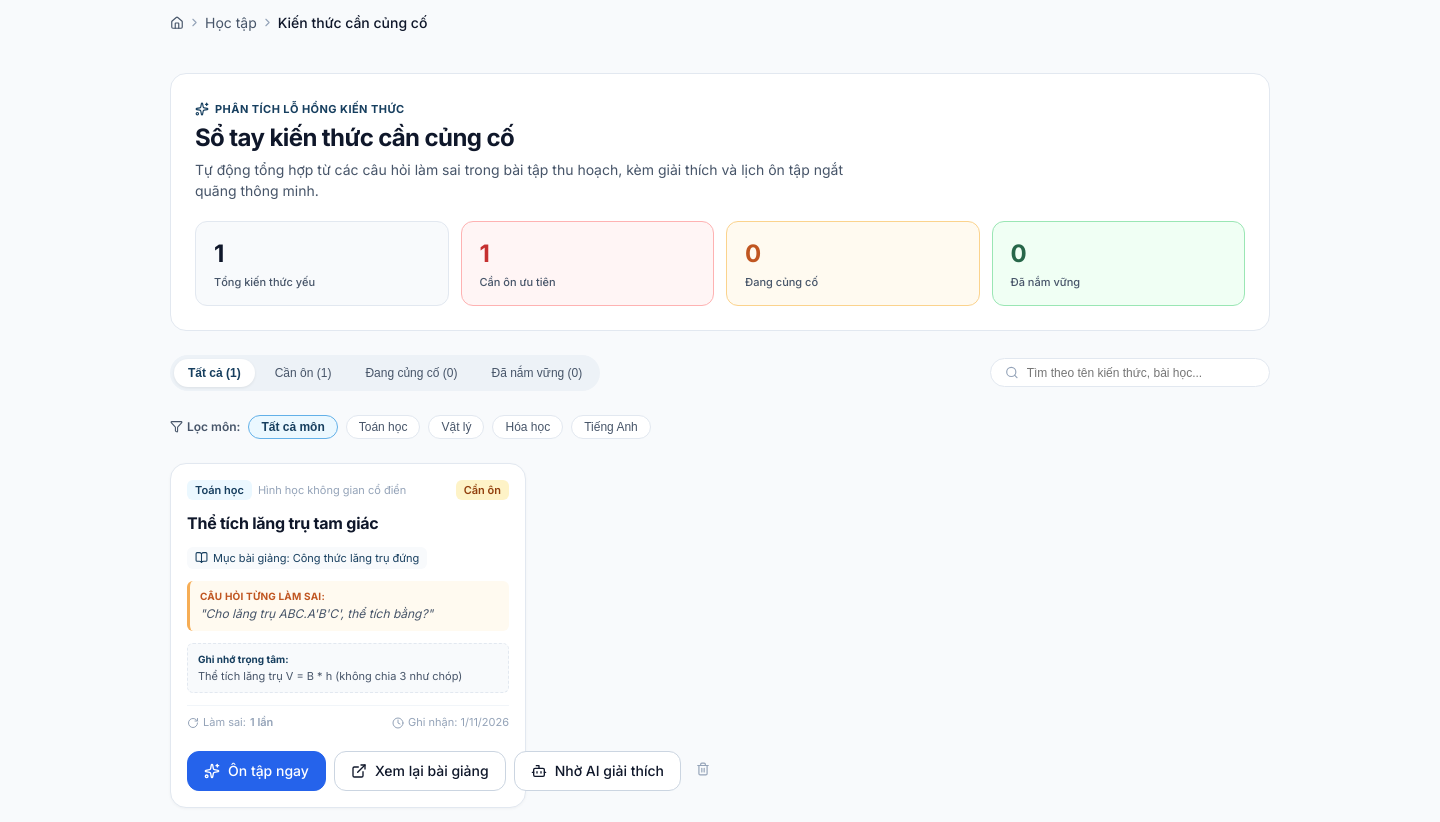
Scenario: KnowledgeGapsPage › filters by search keyword
Type "Hóa học" into the field with placeholder "Tìm theo tên kiến thức, bài học...".
click(1141, 373); type("Hóa học")  # box x1=1027 y1=366 x2=1255 y2=380
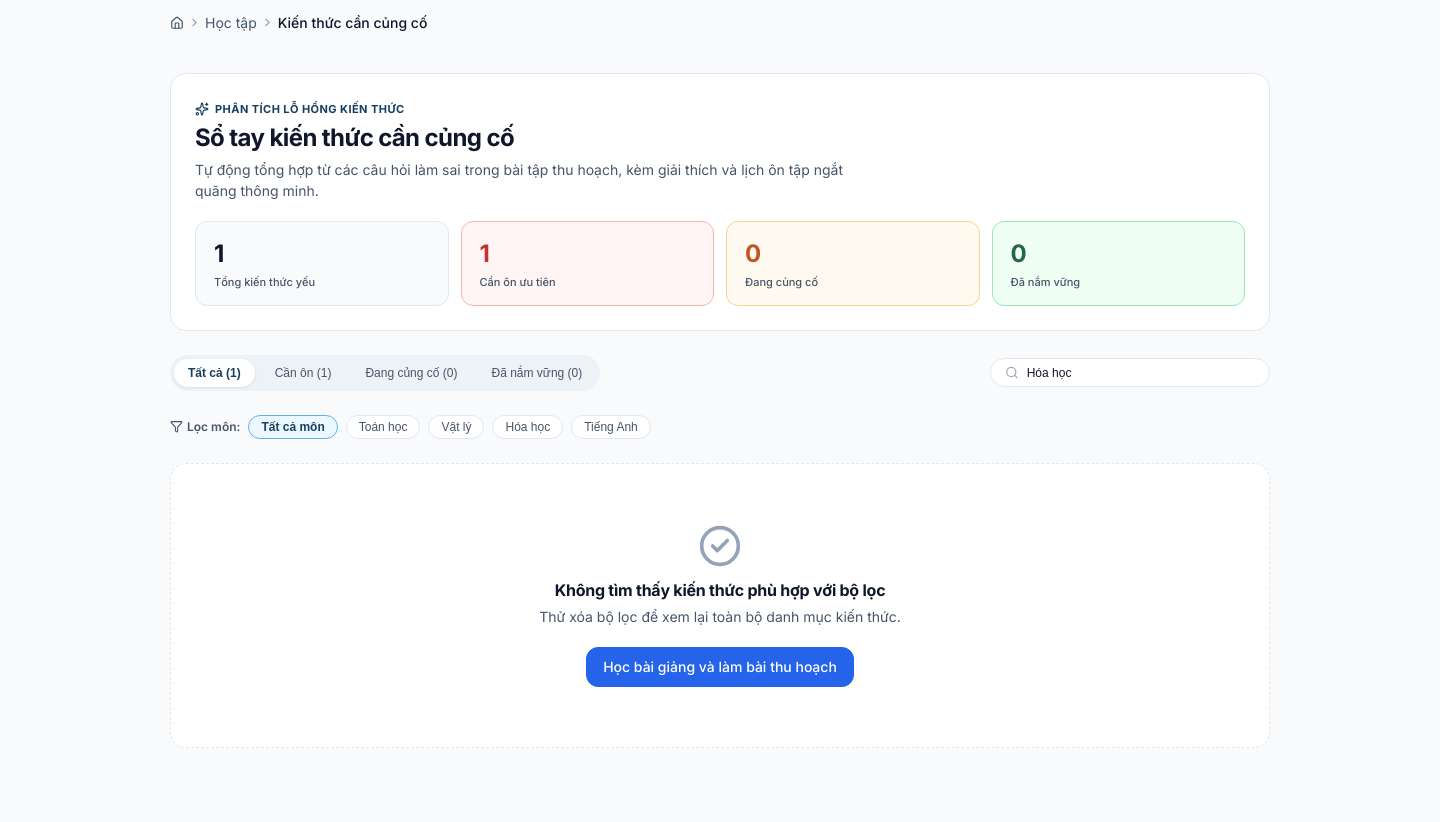
Check: the heading "Thể tích lăng trụ tam giác" is gone
Check: the heading "Không tìm thấy kiến thức phù hợp với bộ lọc" is shown, box x1=555 y1=580 x2=885 y2=600
Replace the text in the field with placeholder "Tìm theo tên kiến thức, bài học..." with "lăng trụ" at (1141, 373), box x1=1027 y1=366 x2=1255 y2=380
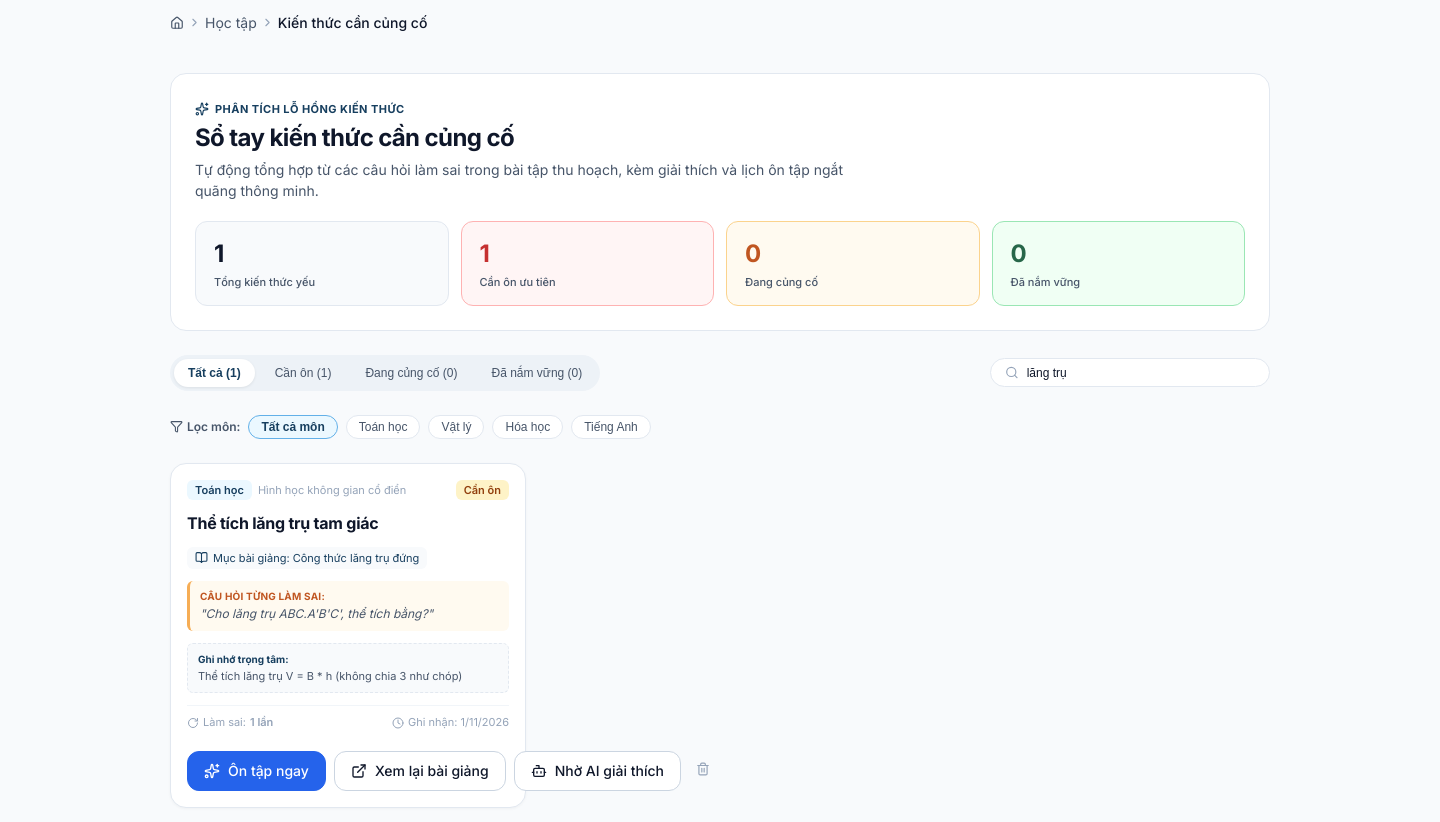
Check: the heading "Thể tích lăng trụ tam giác" is shown, box x1=187 y1=513 x2=378 y2=533
